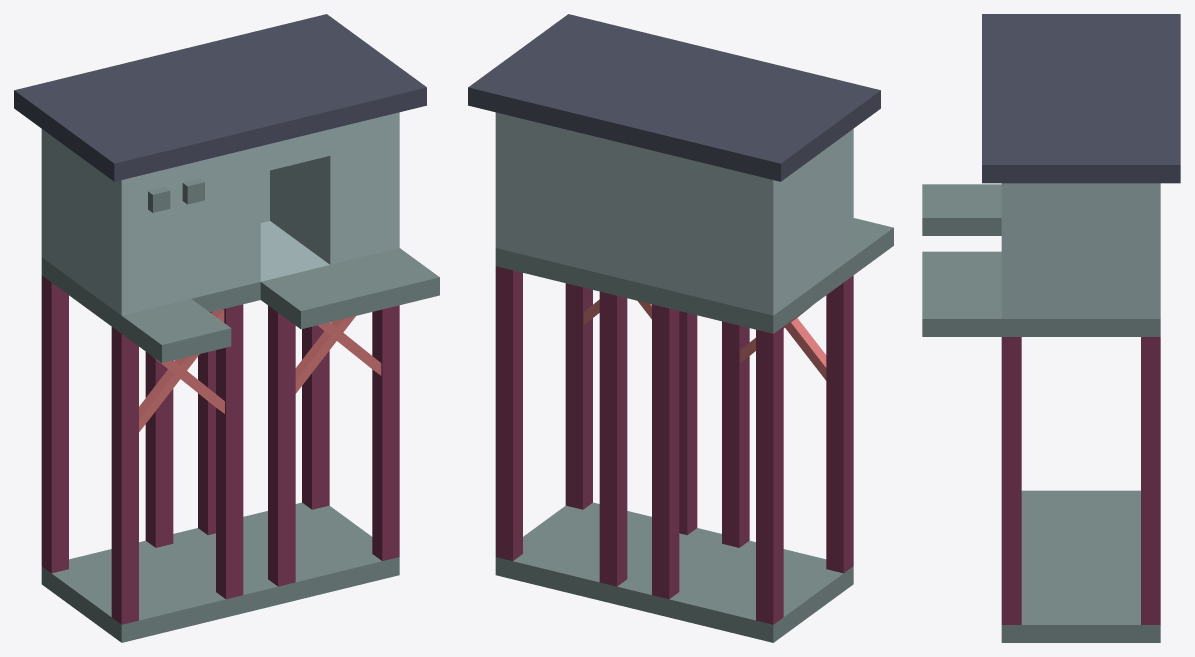
File: Building-Big.002.fbx
3 views of the same model, side by side, from view 1: azimuth 30°, elevation 25°; view 2: azimuth 150°, elevation 25°; view 3: azimuth 270°, elevation 25° (orthographic).
Visible parts, largest first — view 1: Building-Big.002; view 2: Building-Big.002; view 3: Building-Big.002.
Part boxes in pixels (x1,y1,x2,y2): Building-Big.002: (14,14,439,642); Building-Big.002: (468,14,893,642); Building-Big.002: (922,14,1180,642).
Size of the model in its own units: 1800 by 2700 by 1300.
